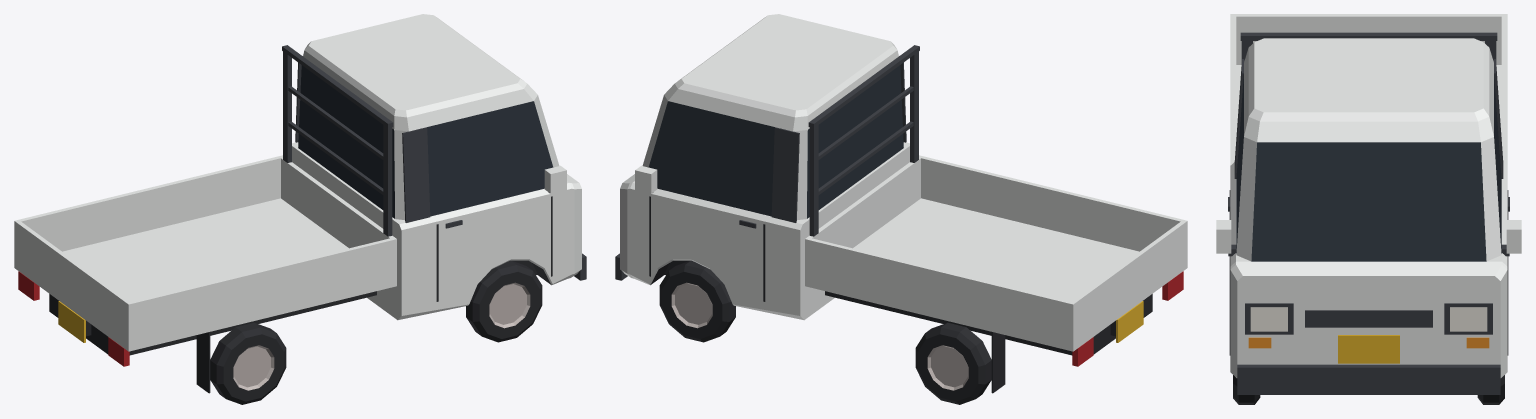
File: SM_Street_KeiCar_Truck_White_01.gltf
3 views of the same model, side by side, from view 1: azimuth 30°, elevation 25°; view 2: azimuth 150°, elevation 25°; view 3: azimuth 270°, elevation 25° (orthographic). The views are drawn at different scales.
Visible parts, largest first — view 1: SM_Street_KeiCar_Truck_White_01; view 2: SM_Street_KeiCar_Truck_White_01; view 3: SM_Street_KeiCar_Truck_White_01.
Part boxes in pixels (left/top/right/bottom): SM_Street_KeiCar_Truck_White_01: left=14, top=14, right=586, bottom=404; SM_Street_KeiCar_Truck_White_01: left=615, top=14, right=1187, bottom=404; SM_Street_KeiCar_Truck_White_01: left=1216, top=14, right=1521, bottom=404.
Bounding box in the file's own units: 3.43 × 1.76 × 1.62.
Materials: 1 (1 with a texture image).
